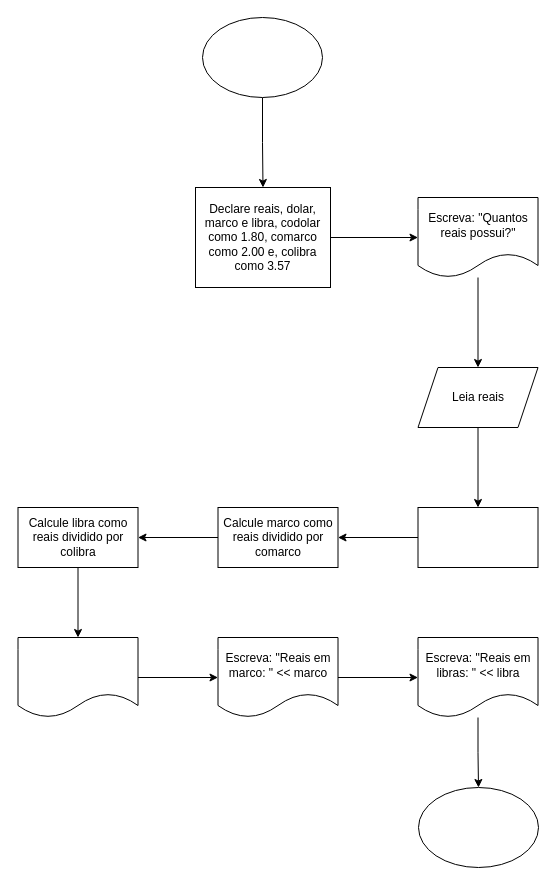
Image size: 556x885. Some labels were removed from this diagram. Each missing label, with the centre of its shape:
Calcule dolar como reais dividido por codolar: pixel 477 537
Escreva: "Reais em dolares:" << dolar: pixel 77 677
Fim: pixel 478 827
Início: pixel 262 57
